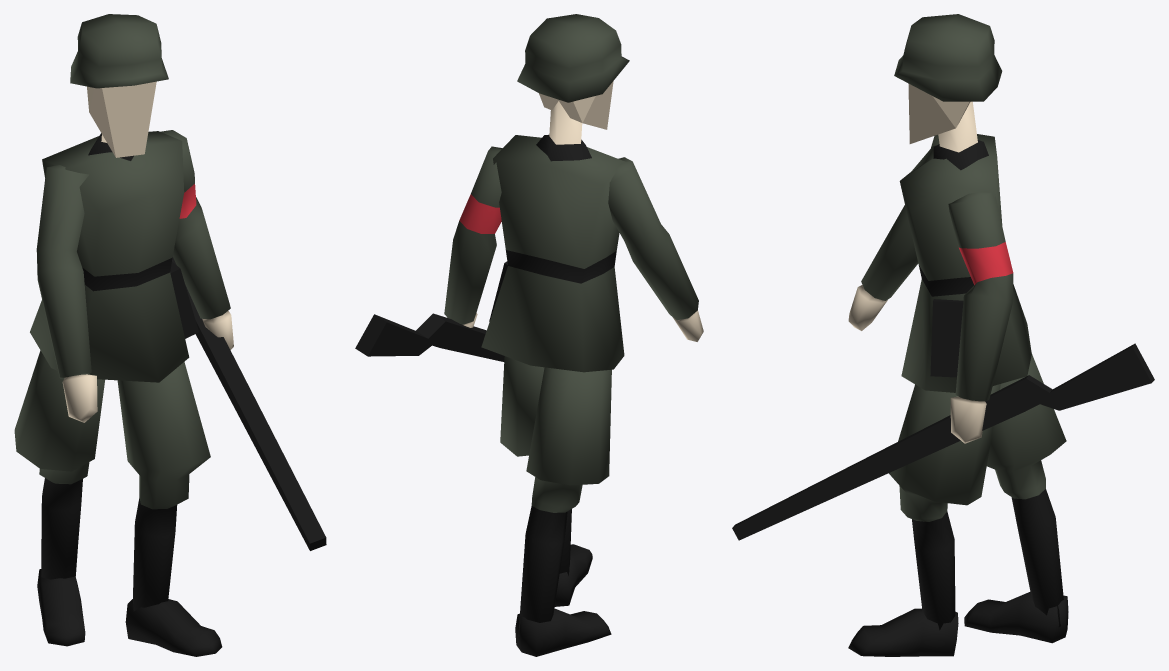
File: mesh_NaziSoldier_c.fbx
3 renders of one model, left to right at view 1: azimuth 30°, elevation 25°; view 2: azimuth 150°, elevation 25°; view 3: azimuth 270°, elevation 25°, orthographic. The views are drawn at different scales.
Visible parts, largest first — view 1: mesh_NaziSoldier_c; view 2: mesh_NaziSoldier_c; view 3: mesh_NaziSoldier_c.
Boxes of the visible parts, x1,y1,x2,y2 form: mesh_NaziSoldier_c: (14, 14, 326, 656); mesh_NaziSoldier_c: (355, 14, 703, 656); mesh_NaziSoldier_c: (732, 14, 1154, 656).
Size of the model in its own units: 37.55 by 99.27 by 61.87.
